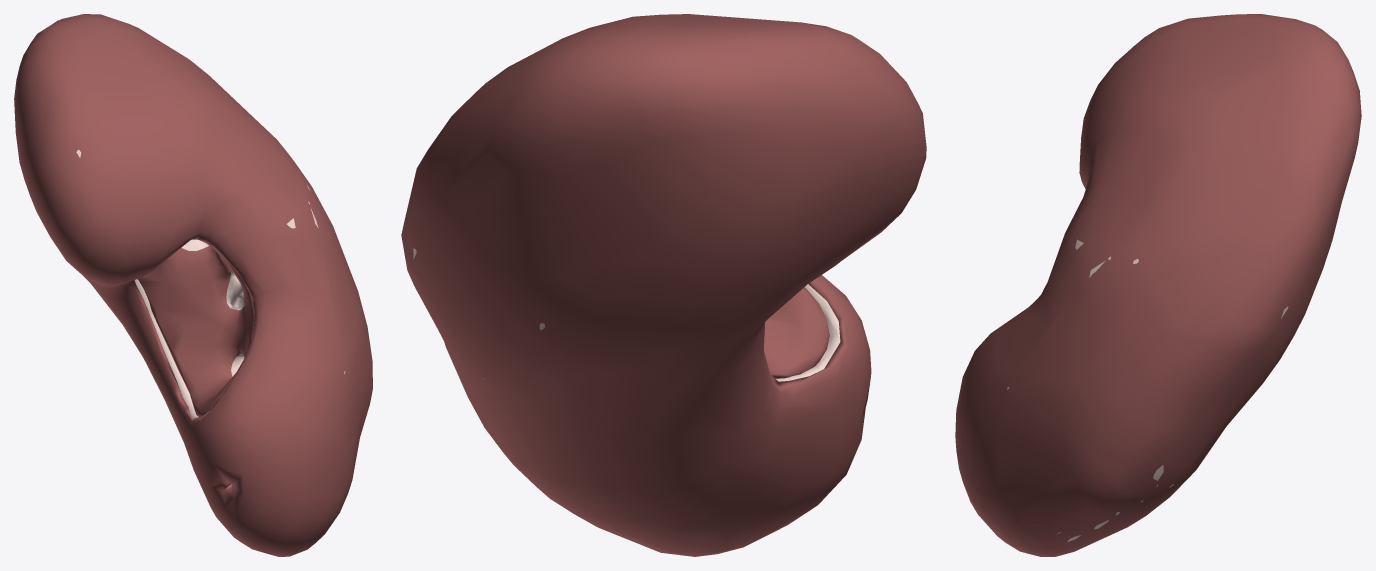
File: vh_m_kidney_l-20.glb
The picture shows the model from 3 angles, left to right: view 1: azimuth 30°, elevation 25°; view 2: azimuth 150°, elevation 25°; view 3: azimuth 270°, elevation 25°; orthographic projection. The views are drawn at different scales.
Visible parts, largest first — view 1: VH_M_kidney_capsule_L, VH_M_hilum_of_kidney_L, VH_M_outer_cortex_of_kidney_L, VH_M_renal_column_L; view 2: VH_M_kidney_capsule_L, VH_M_hilum_of_kidney_L, VH_M_outer_cortex_of_kidney_L; view 3: VH_M_kidney_capsule_L.
Boxes of the visible parts, box(x1,y1,x2,y2) form: VH_M_kidney_capsule_L: box(14, 14, 372, 556); VH_M_hilum_of_kidney_L: box(138, 239, 254, 416); VH_M_outer_cortex_of_kidney_L: box(76, 150, 345, 418); VH_M_renal_column_L: box(181, 239, 244, 376); VH_M_kidney_capsule_L: box(401, 14, 926, 556); VH_M_hilum_of_kidney_L: box(764, 287, 829, 378); VH_M_outer_cortex_of_kidney_L: box(413, 248, 840, 533); VH_M_kidney_capsule_L: box(955, 14, 1361, 556).
Bounding box in the file's own units: 0.0759 × 0.1066 × 0.0824.
